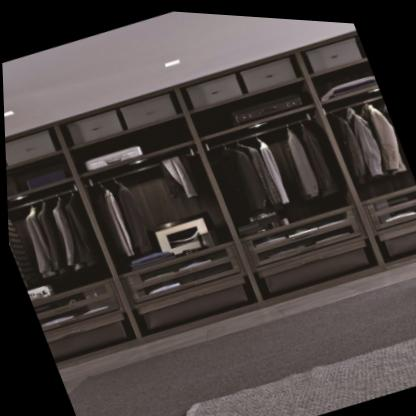Transparent Closet: (0, 5, 416, 386)
